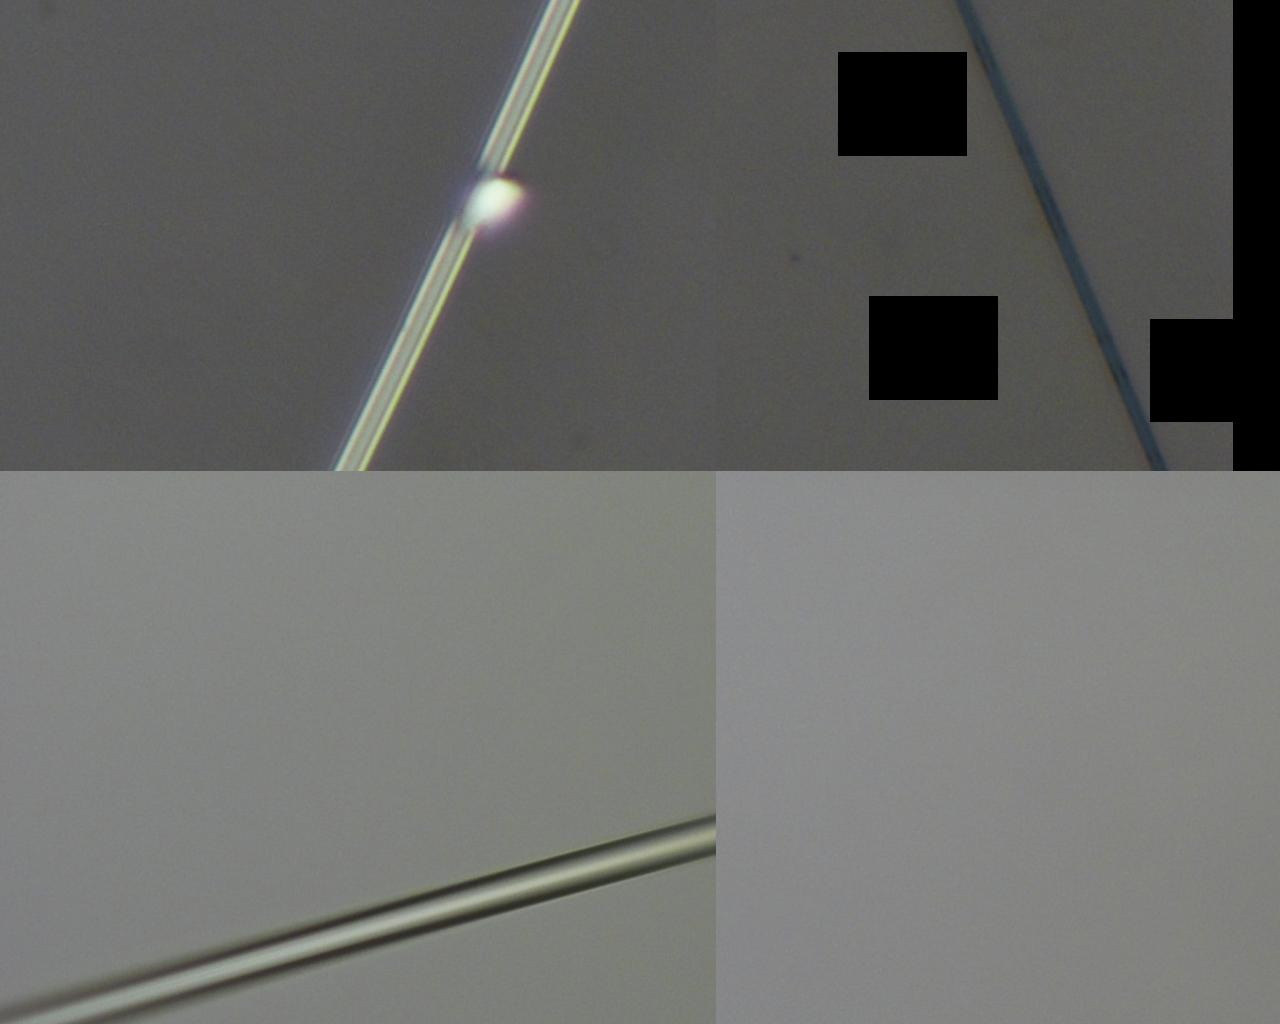fiber: (1050, 0, 1276, 655), (296, 655, 441, 1024), (43, 0, 94, 655), (715, 947, 935, 1024)
